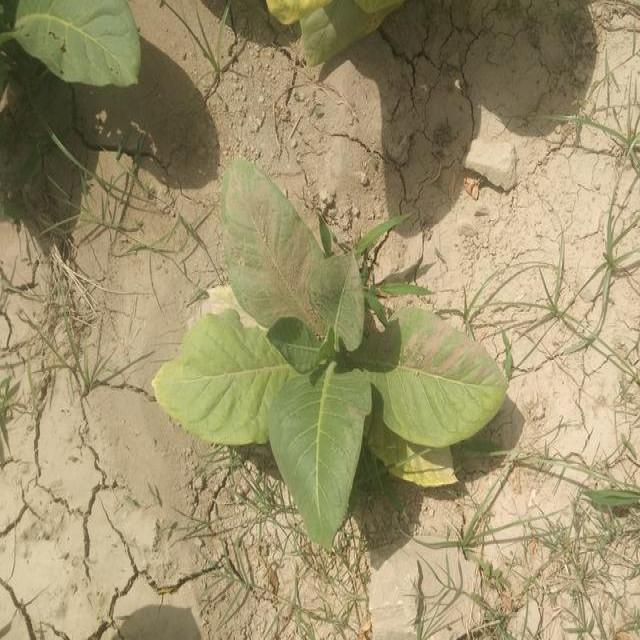crop: (168, 178, 467, 542), (13, 0, 145, 82)
